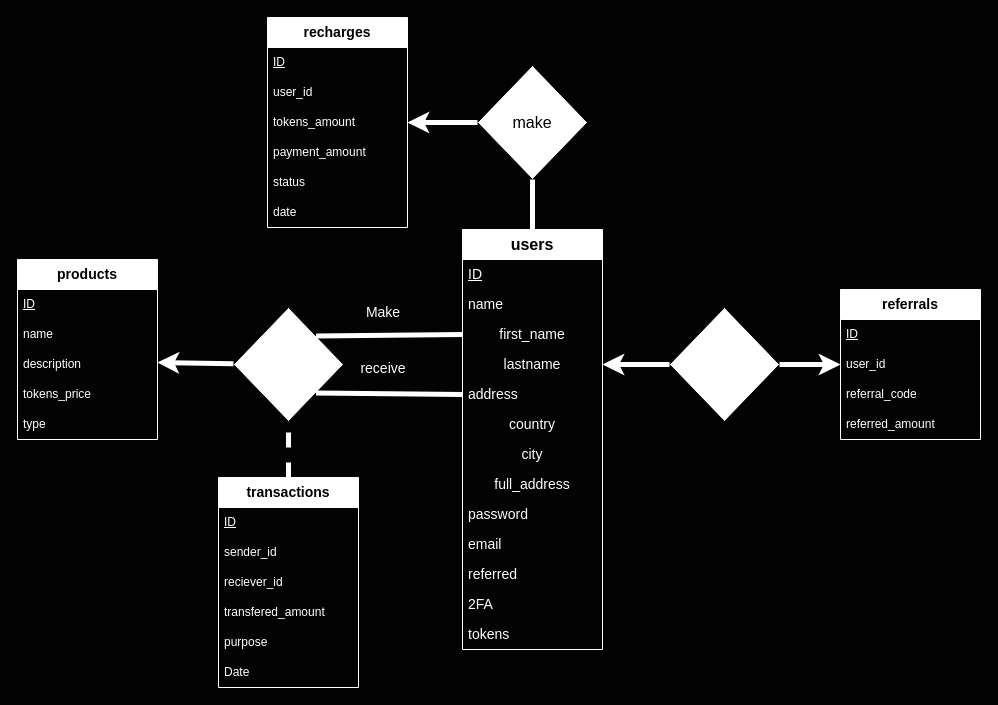
Image size: 998x705. Some labels were removed from this diagram. Each missing label, with the centre of its shape:
"have" belongs at (x=724, y=364).
"transfer" belongs at (x=288, y=364).
